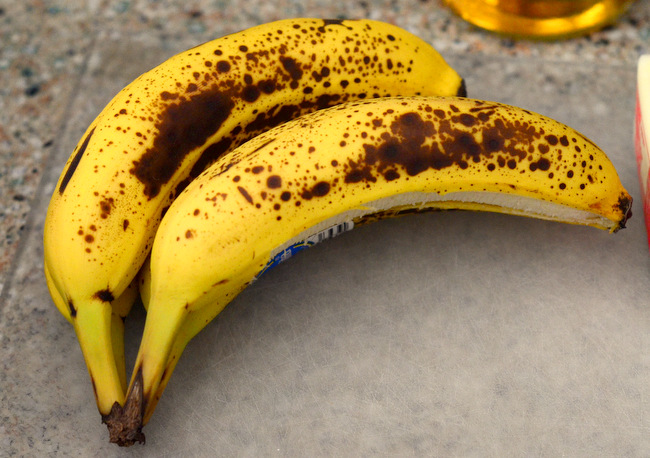rotten_banana: (42, 17, 467, 297), (121, 96, 632, 314)
